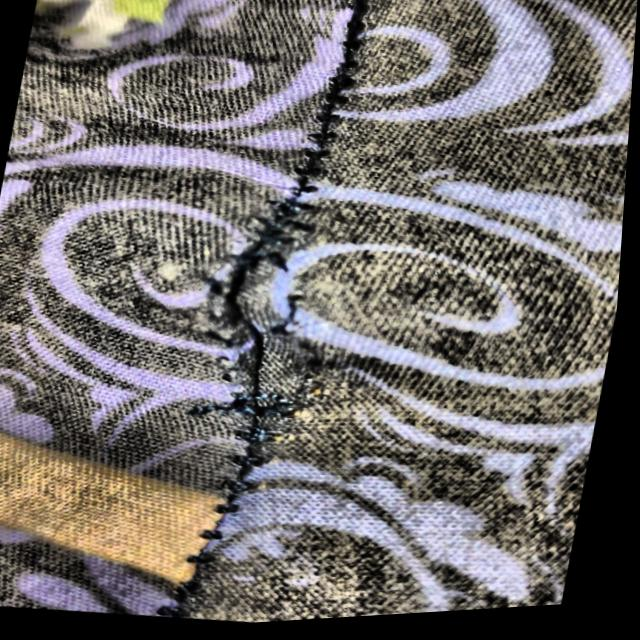seam: (118, 116, 431, 555)
